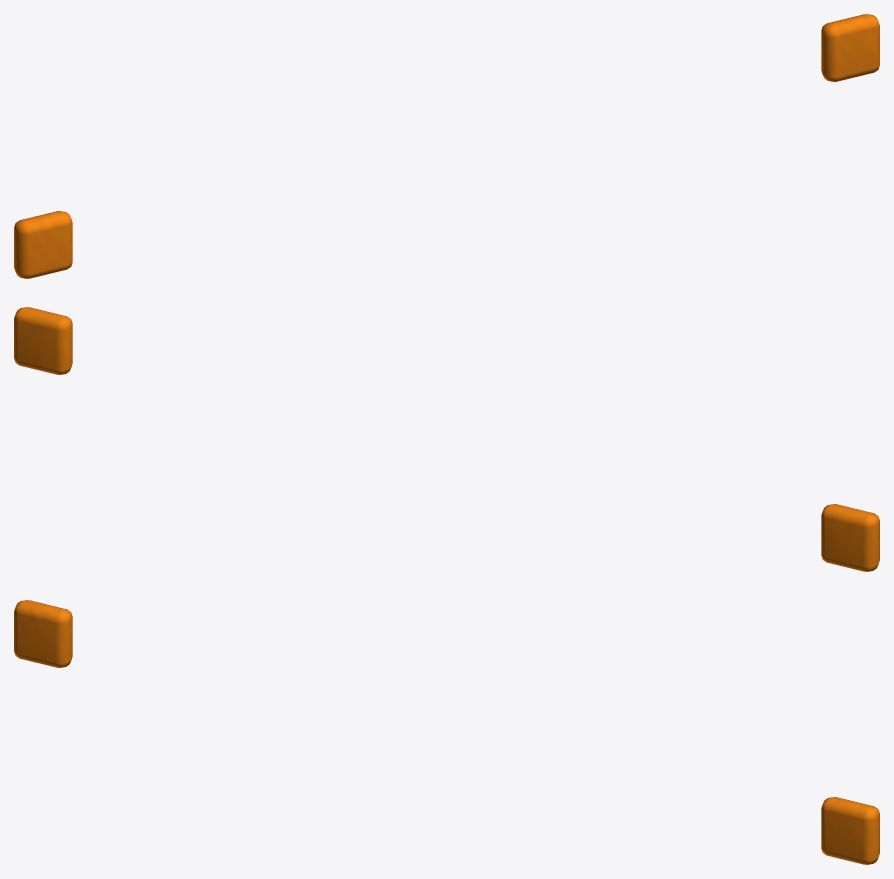
3 renders of one model, top to bottom at view 1: azimuth 30°, elevation 25°; view 2: azimuth 150°, elevation 25°; view 3: azimuth 330°, elevation 25°, orthographic.
Bounding box in the file's own units: 1.6 × 0.1 × 0.04.
Materials: 1 (1 with a texture image).
